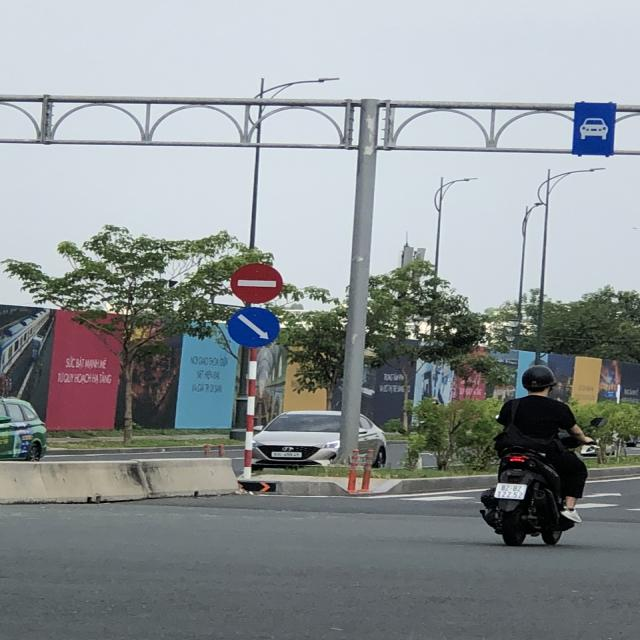Bien bao cam di nguoc chieu: (225, 258, 290, 307)
